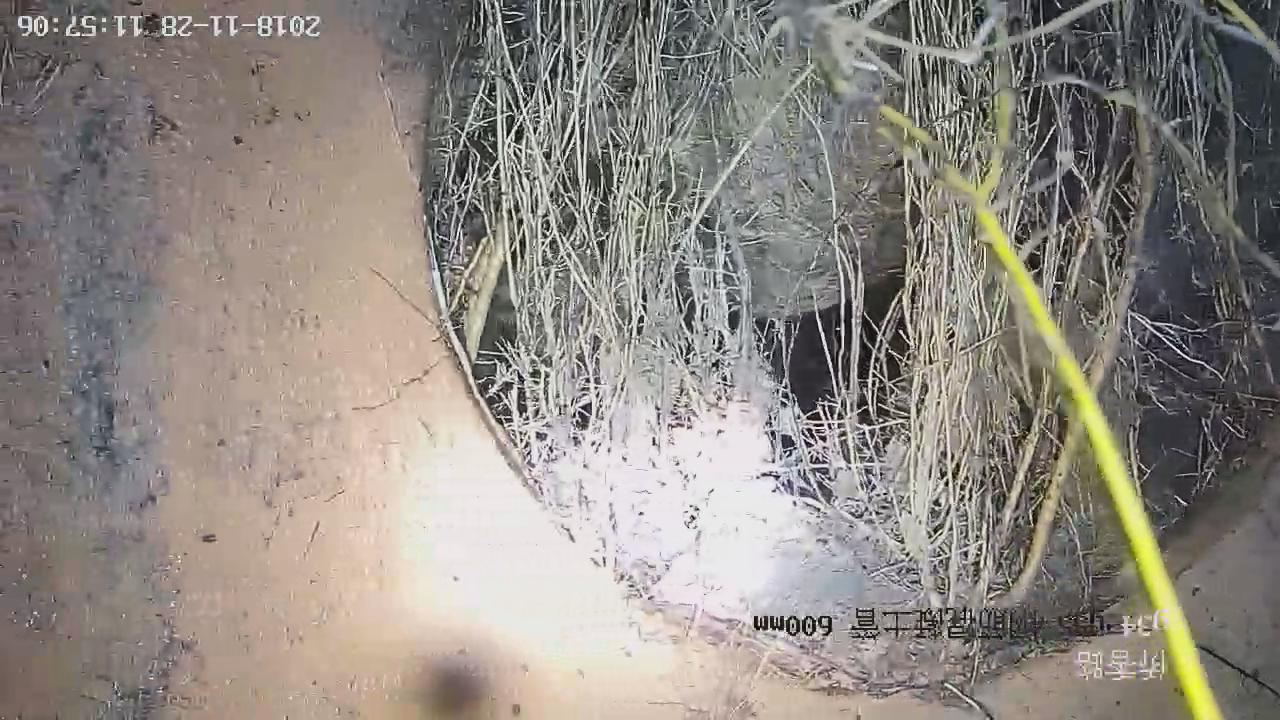SG: (430, 1, 1280, 720), (430, 1, 1280, 705)
